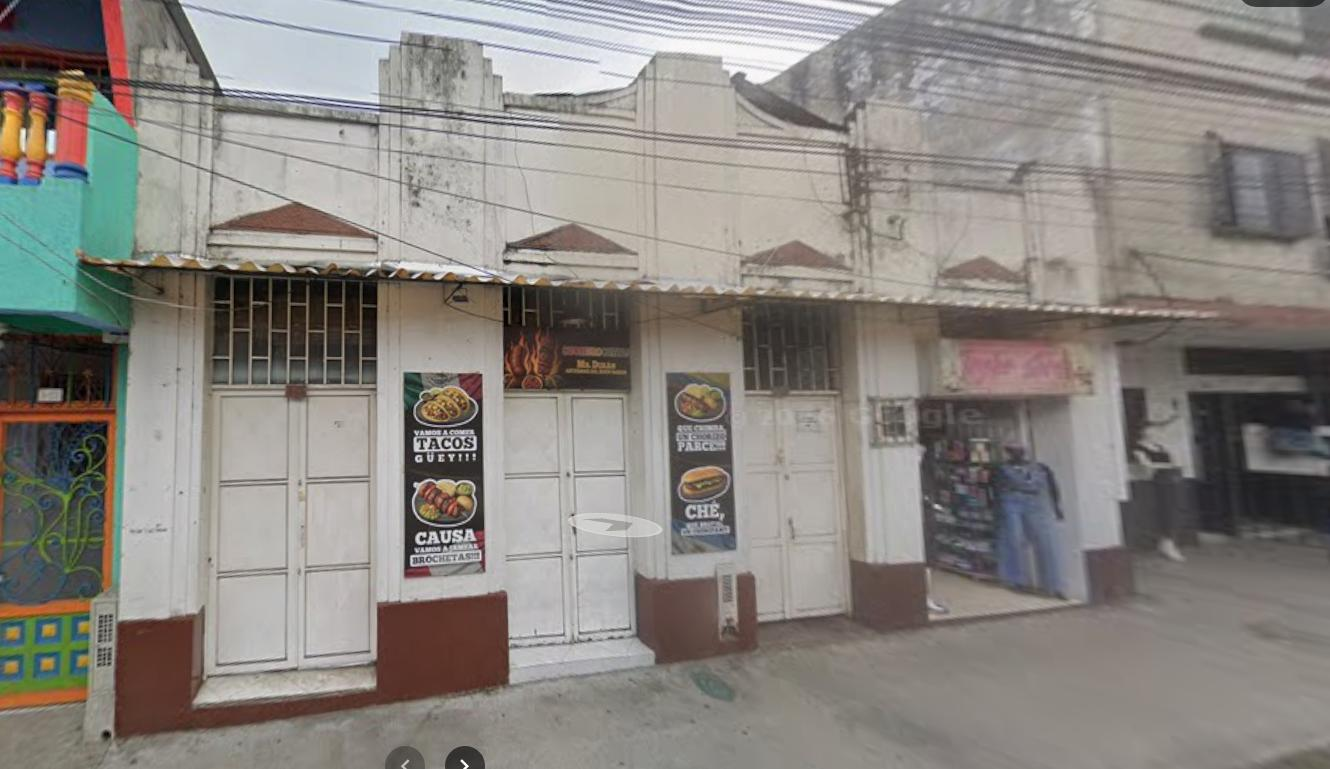casa: (76, 35, 1171, 733), (767, 0, 1329, 572)
